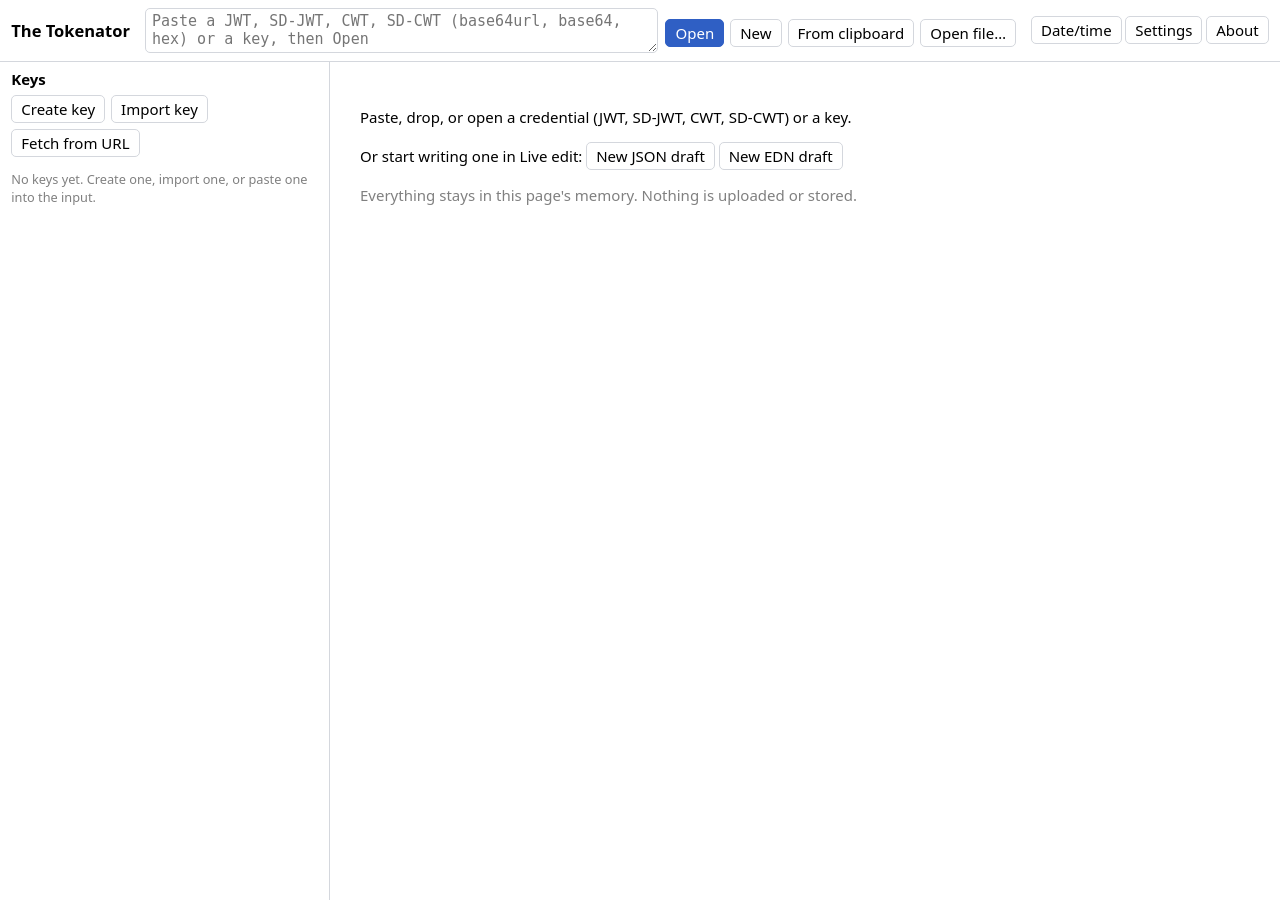
opening input › opens from the clipboard with clipboard provenance
What coordinates should you click on to do the following:
click the button "From clipboard"
I would click on:
 (851, 33)
Its box is [788,19,914,47].
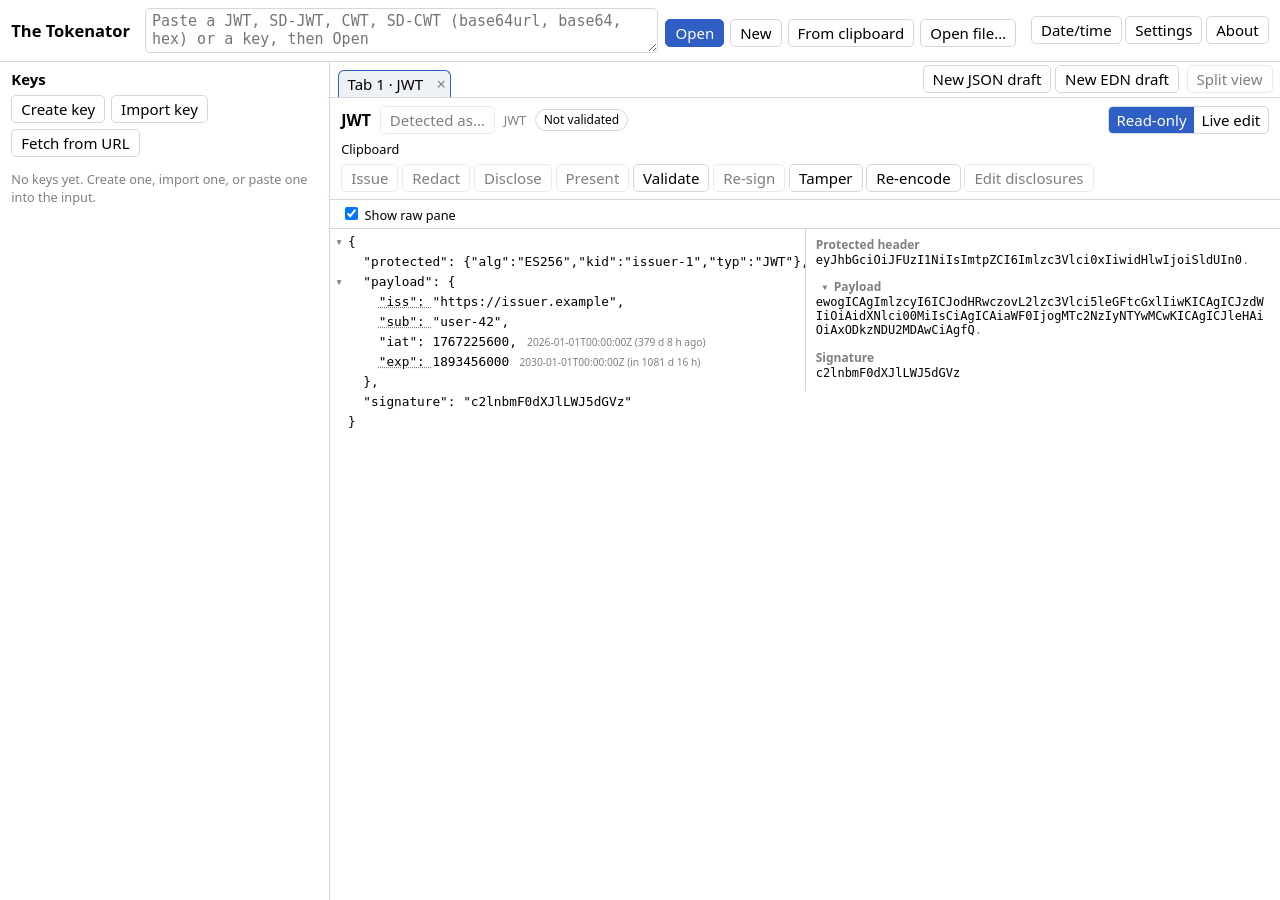
Now the number of tabs is 1, box [338,71,432,97]
Now the navigation bar named "Provenance" reads "Clipboard", box [341,140,399,158]
